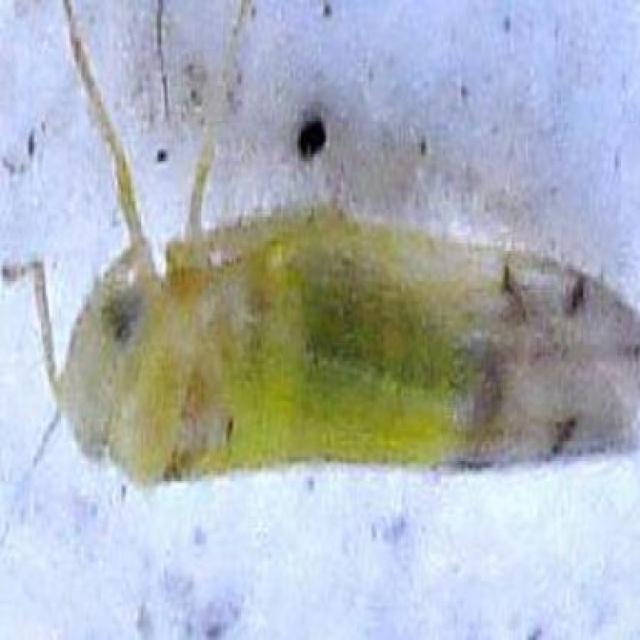green-leafhopper: (51, 183, 640, 472)
